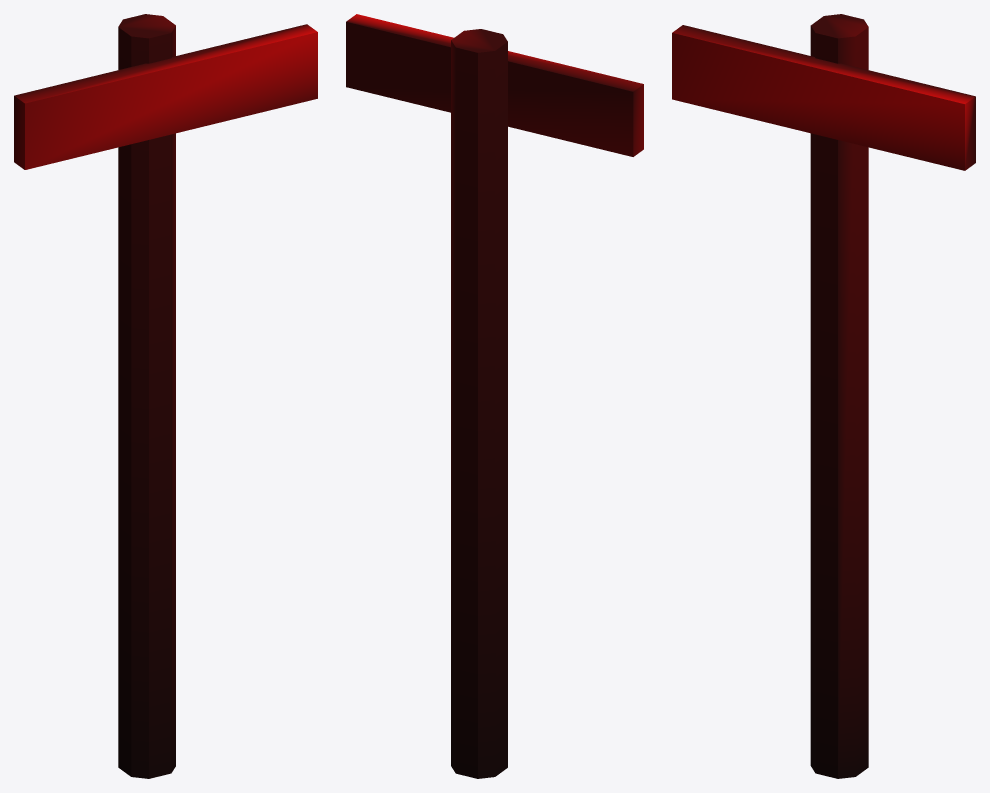
File: Sign01.fbx
3 views of the same model, side by side, from view 1: azimuth 30°, elevation 25°; view 2: azimuth 150°, elevation 25°; view 3: azimuth 330°, elevation 25° (orthographic).
Parts seen in each view (by area): view 1: Model_SignSingle; view 2: Model_SignSingle; view 3: Model_SignSingle.
Part boxes in pixels (left/top/right/bottom): Model_SignSingle: left=14, top=14, right=317, bottom=778; Model_SignSingle: left=346, top=14, right=643, bottom=778; Model_SignSingle: left=672, top=14, right=975, bottom=778.
Bounding box in the file's own units: 56.63 × 137 × 11.94.
